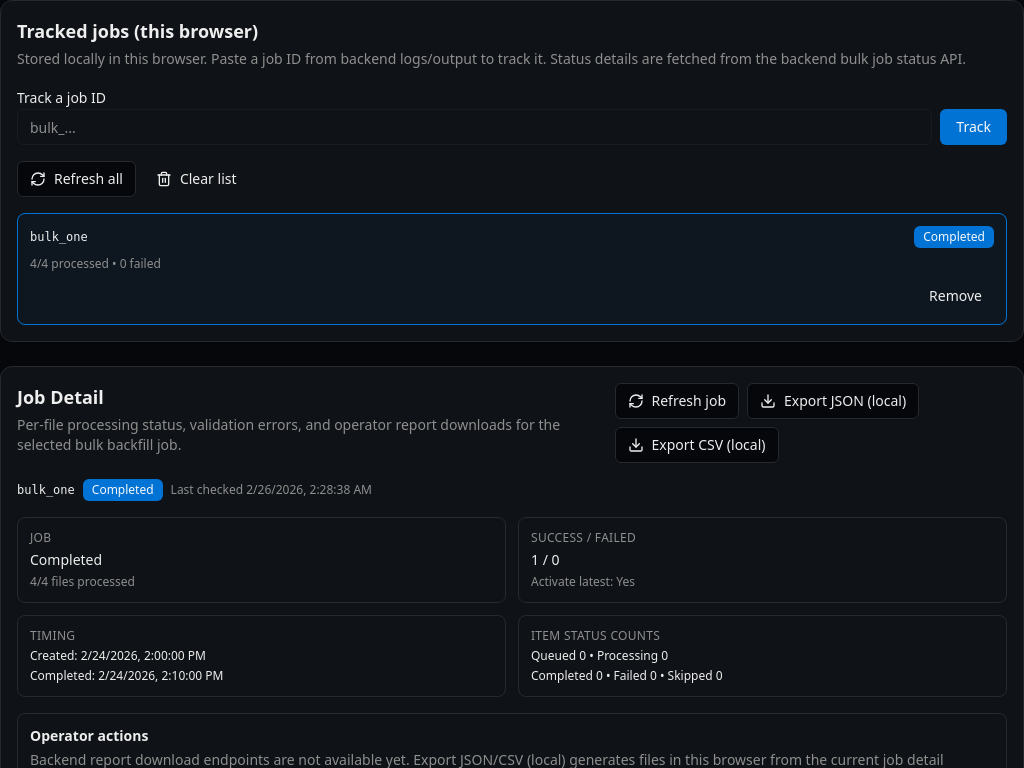
Scenario: AdminBulkBackfillMonitor › clears selected state after removing the last tracked job
The image size is (1024, 768).
Click the button with aria-label "Remove bulk_one from tracked jobs" at (956, 296), box [917, 280, 994, 312]
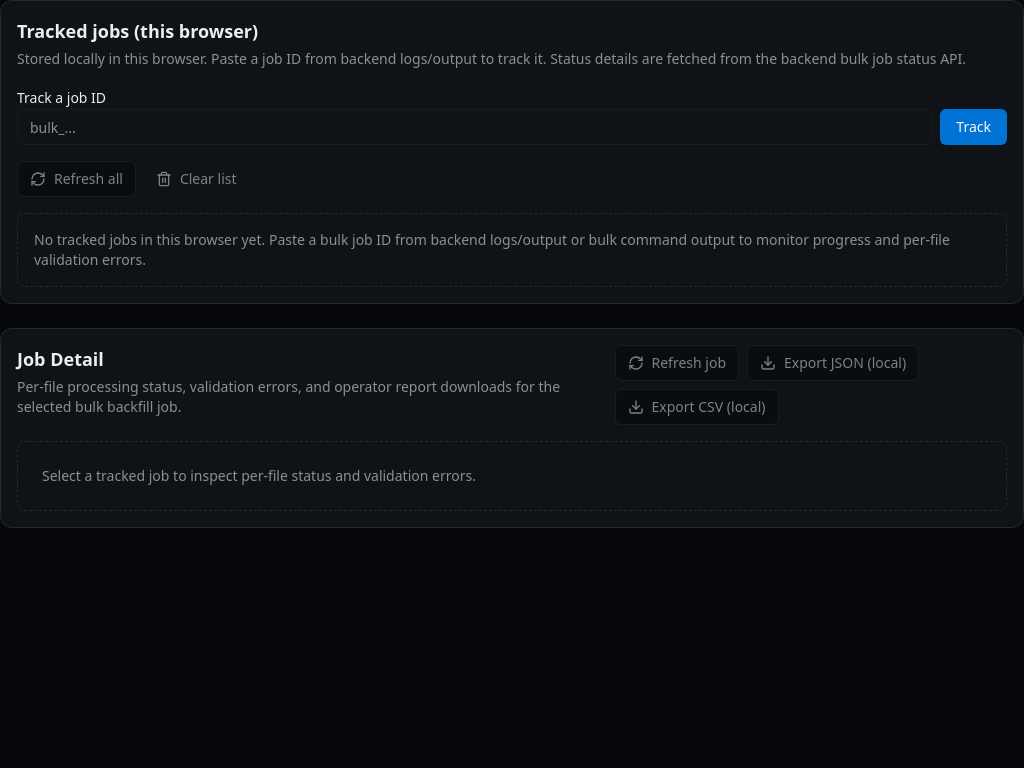
Result: the text "Select a tracked job to inspect" is shown at [42, 466, 476, 485]
Result: the text "No tracked jobs in this browser yet" is shown at [34, 230, 950, 269]
